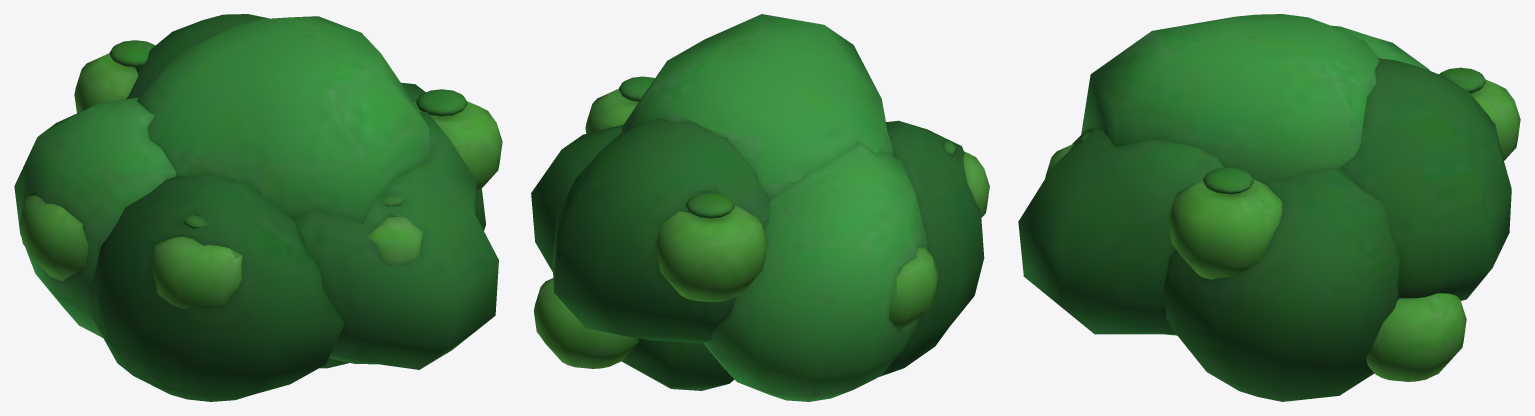
File: crop_tea.glb
The picture shows the model from 3 angles, left to right: view 1: azimuth 30°, elevation 25°; view 2: azimuth 150°, elevation 25°; view 3: azimuth 270°, elevation 25°; orthographic projection. The views are drawn at different scales.
Visible parts, largest first — view 1: crop_tea, fruit; view 2: crop_tea, fruit; view 3: crop_tea, fruit.
Part boxes in pixels (x1,y1,x2,y2): crop_tea: [14, 14, 498, 401]; fruit: [19, 53, 502, 309]; crop_tea: [531, 14, 984, 401]; fruit: [534, 88, 989, 368]; crop_tea: [1018, 14, 1511, 401]; fruit: [1045, 80, 1520, 381].
Bounding box in the file's own units: 0.2659 × 0.2091 × 0.275.
Materials: 1 (1 with a texture image).
